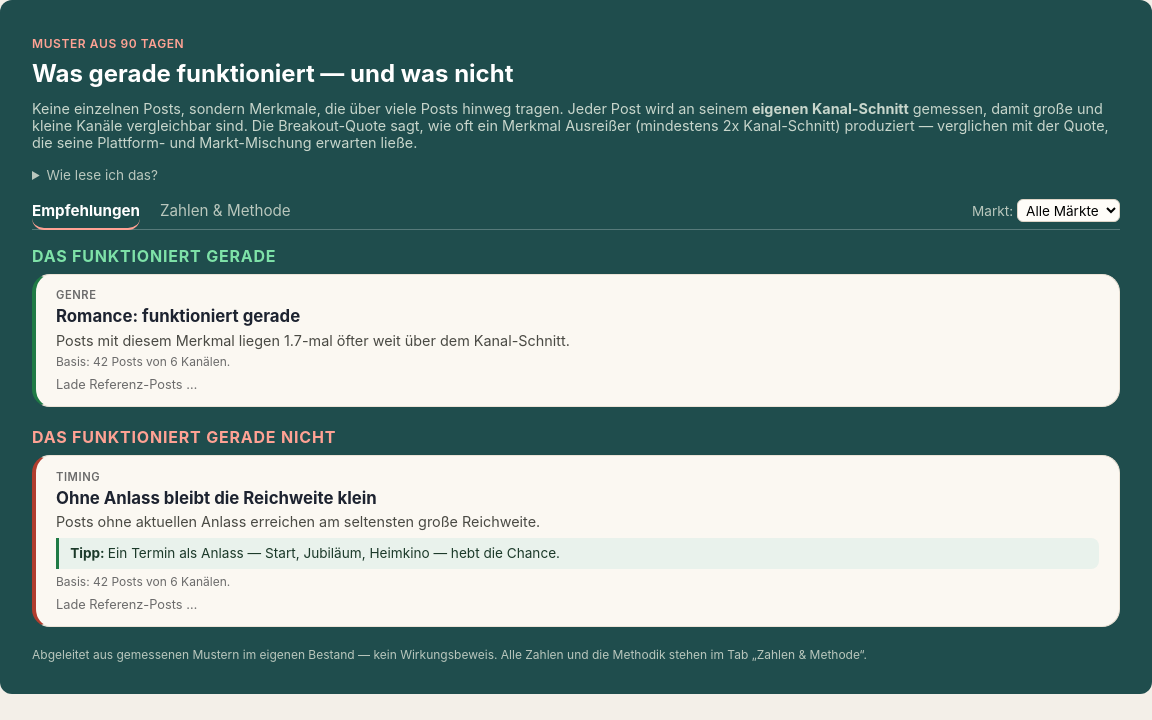
Scenario: PatternsBlock — Flag-Gate und Bericht › zeigt die staerksten Befunde als Klartext-Karten — nach Signalstaerke, ohne unauffaellige
The width and height of the screenshot is (1152, 720).
Click the button "Zahlen & Methode".
click(225, 215)  # box x1=160 y1=201 x2=291 y2=230
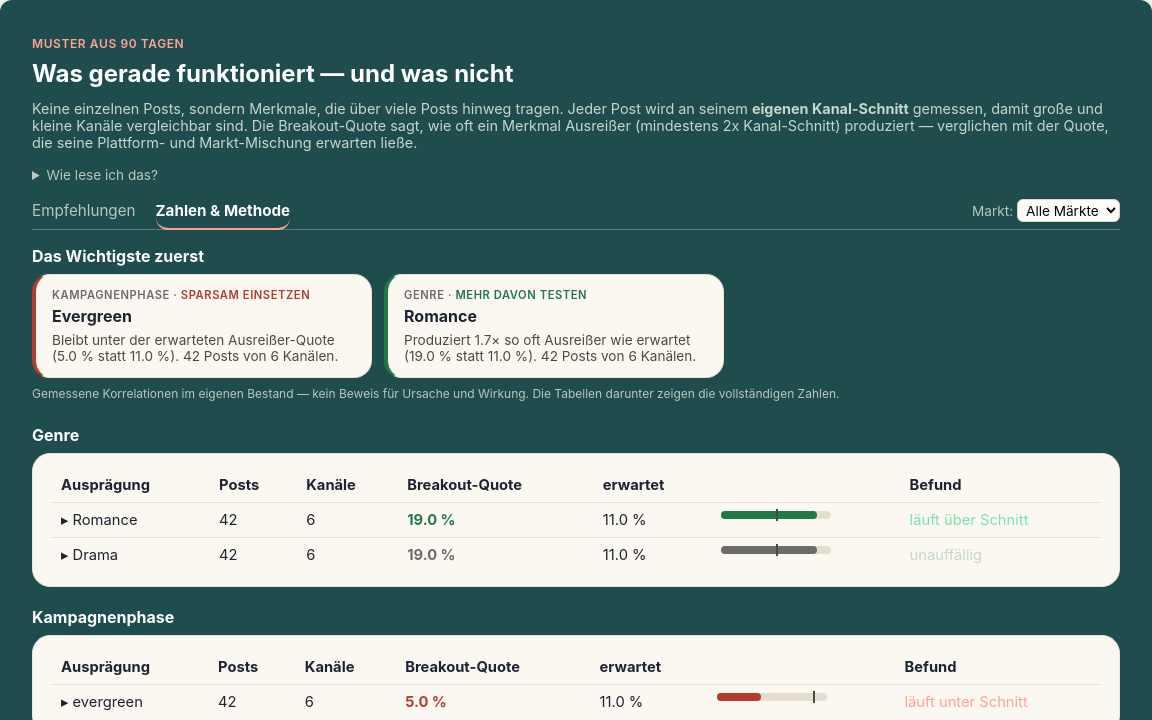
Now the heading "Das Wichtigste zuerst" is shown, box x1=32 y1=246 x2=204 y2=266
Now the text "Sparsam einsetzen" is shown 2 times, box x1=181 y1=288 x2=310 y2=302; x1=455 y1=288 x2=587 y2=302
Now the text "Sparsam einsetzen" is shown, box x1=181 y1=288 x2=310 y2=302
